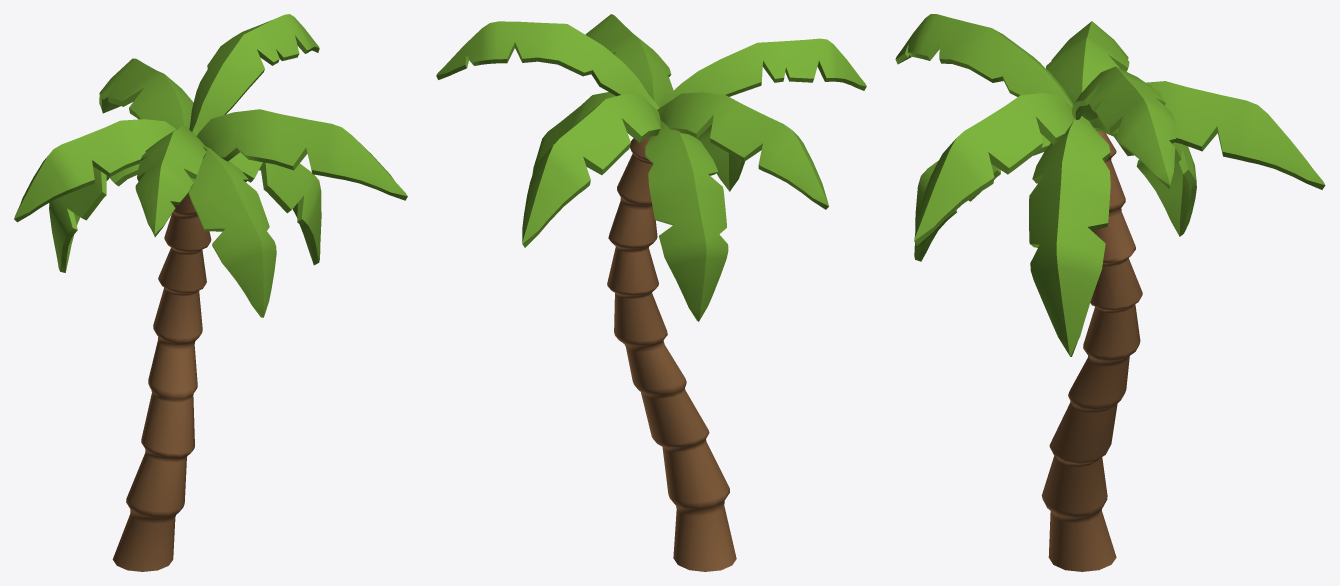
Rendered from vegetation_tree.glb.
3 views of the same model, side by side, from view 1: azimuth 30°, elevation 25°; view 2: azimuth 150°, elevation 25°; view 3: azimuth 270°, elevation 25° (orthographic). The views are drawn at different scales.
Parts seen in each view (by area): view 1: Environment_PalmTree_1; view 2: Environment_PalmTree_1; view 3: Environment_PalmTree_1.
Part boxes in pixels (x1=…): Environment_PalmTree_1: x1=14, y1=14, x2=407, y2=571; Environment_PalmTree_1: x1=436, y1=14, x2=866, y2=571; Environment_PalmTree_1: x1=895, y1=14, x2=1325, y2=571.
Size of the model in its own units: 10.44 by 14.35 by 10.07.
1 material, 1 textured.
